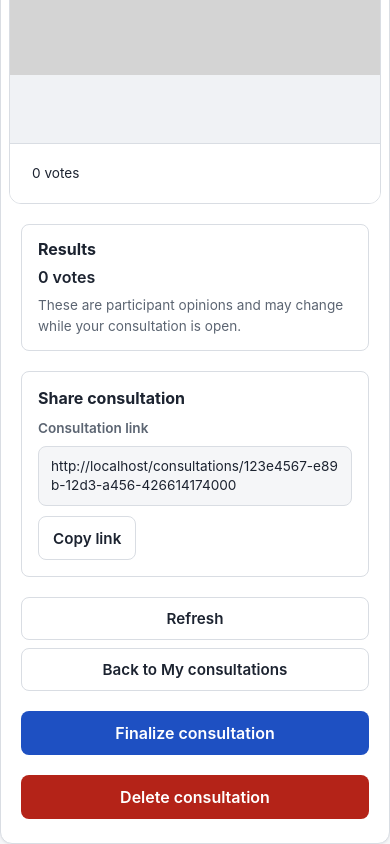
it: OwnerConsultationDetail › opens the accessible confirmation dialog from an open detail
(page scrolled)
What coordinates should you click on to do the following:
click the button "Delete consultation"
I would click on:
 (195, 797)
Its box is [21,775,369,819].
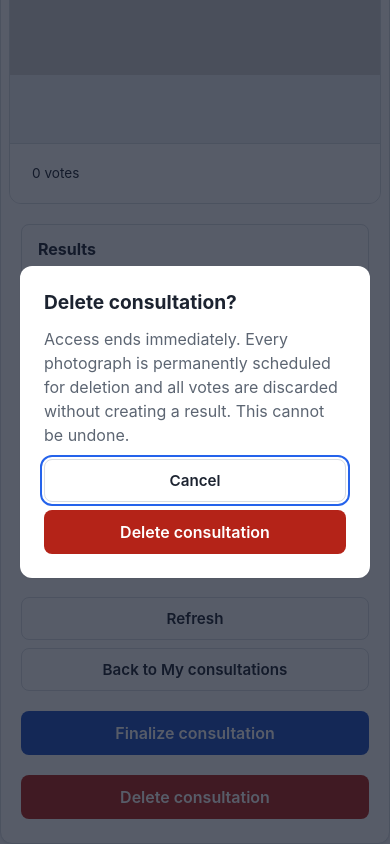
Expected: the dialog "Delete consultation?" is shown
Expected: the text "Access ends immediately. Every photograph is permanently scheduled for deletion" is shown, [44,329,338,445]
